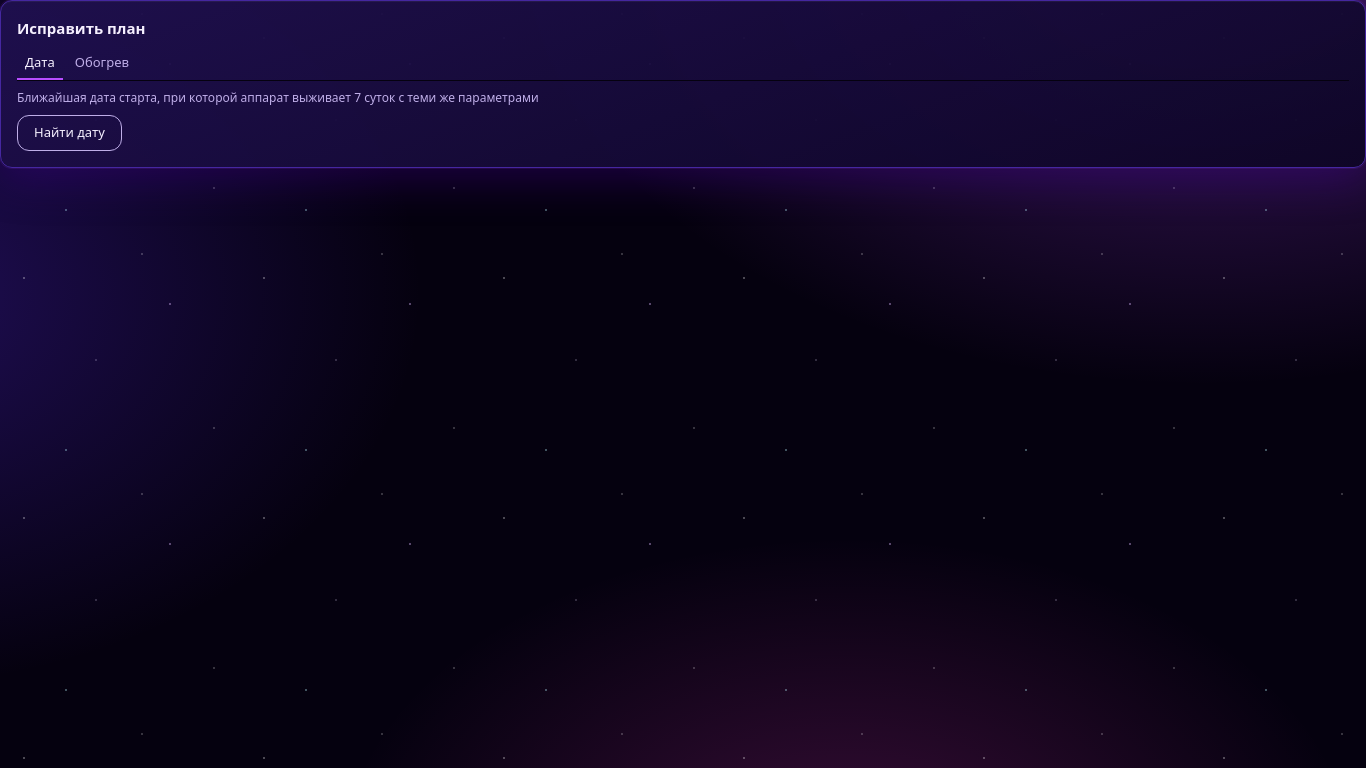
heater tab › proposes a lower heater, compares and applies it
This screenshot has width=1366, height=768.
Later steps or results of the test are not shown.
Click the tab "Обогрев": (102, 64) x1=67 y1=48 x2=137 y2=80
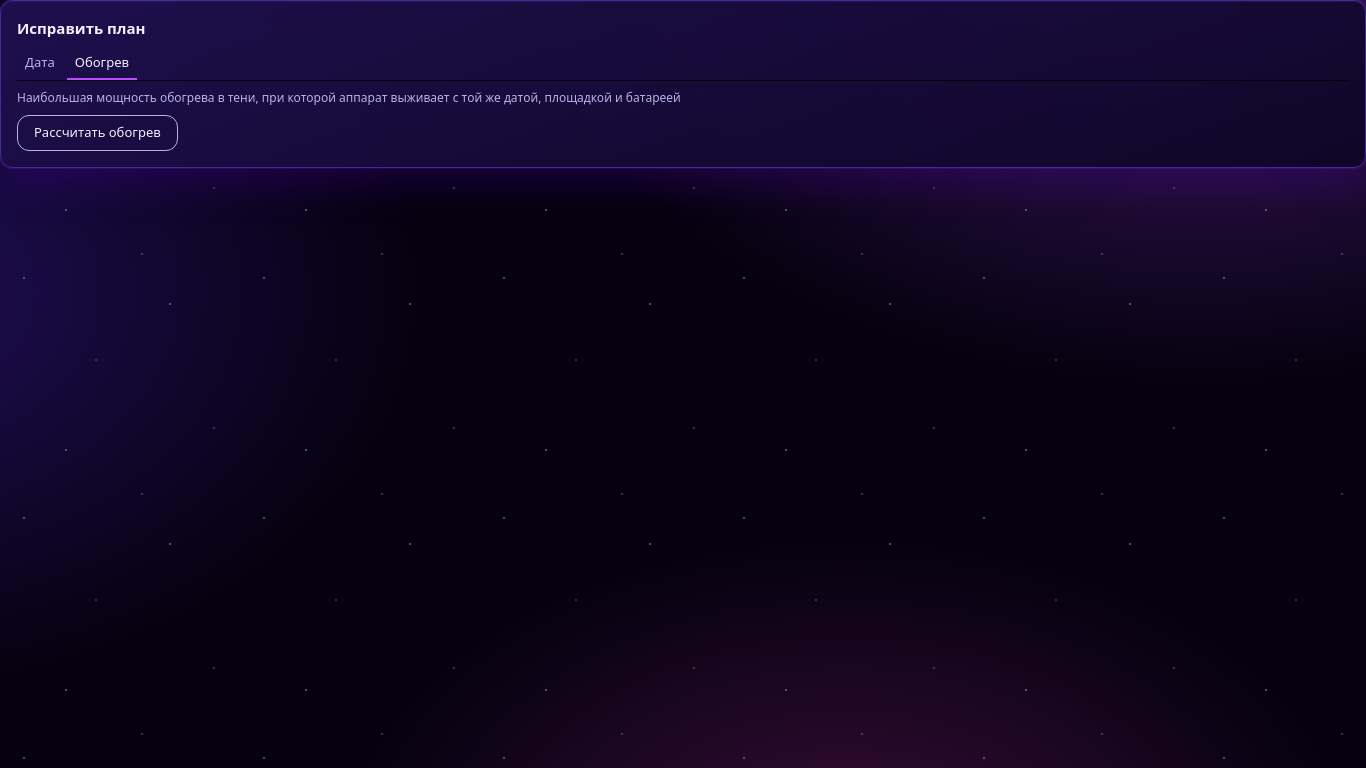
Click the button "Рассчитать обогрев": (97, 132) x1=17 y1=114 x2=178 y2=150
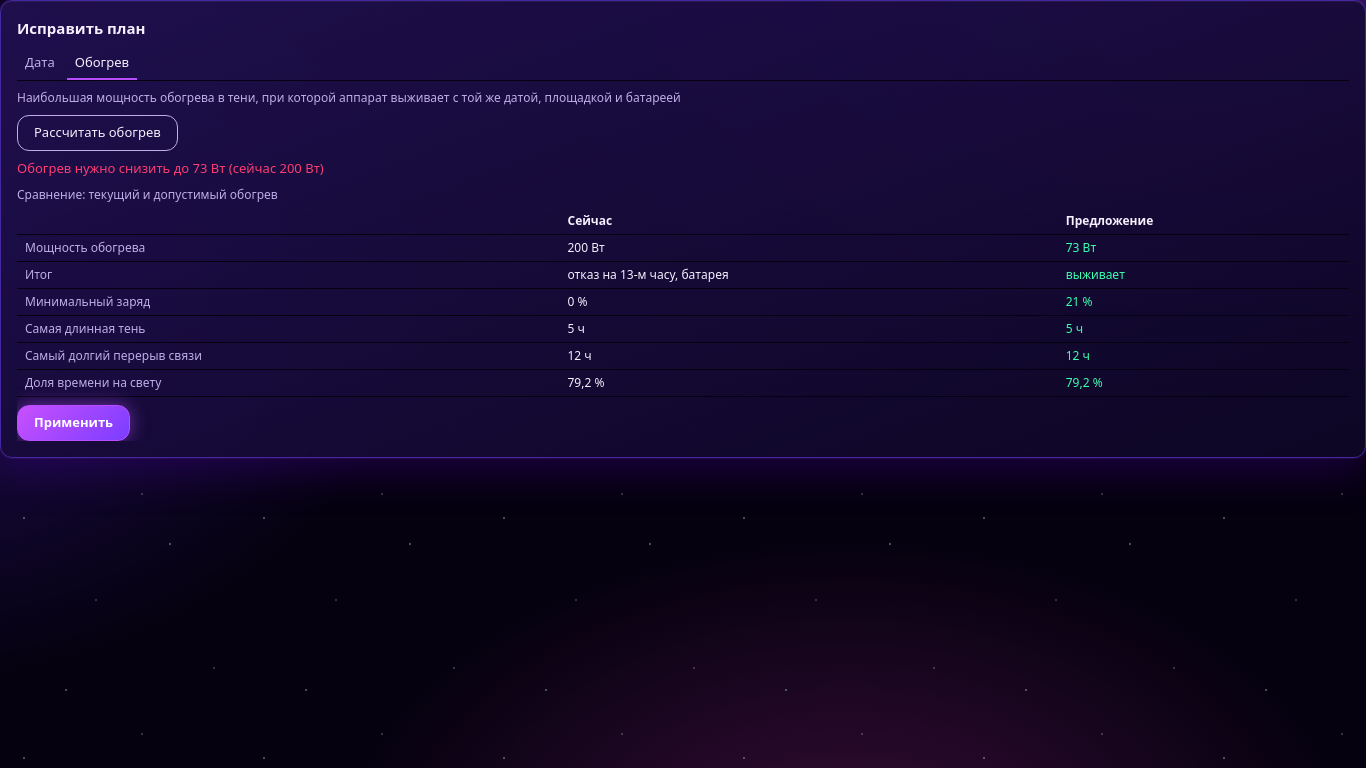
Expected: the message reads "Обогрев нужно снизить до 73 Вт (сейчас 200 Вт)", x1=17 y1=158 x2=324 y2=176
Expected: the row "Мощность обогрева 200 Вт 73 Вт" is shown, x1=17 y1=234 x2=1349 y2=262
